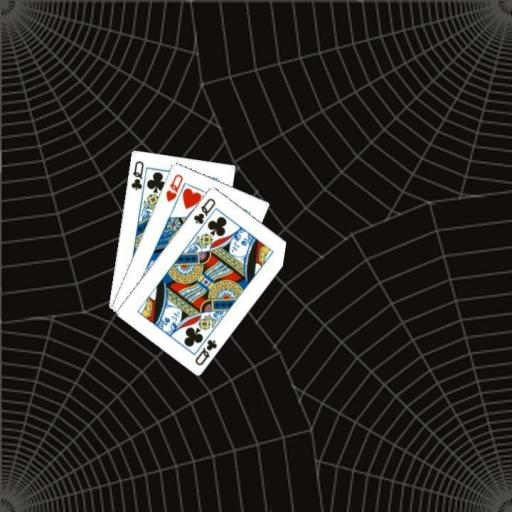card-corner: (190, 194, 217, 226), (192, 336, 218, 367), (162, 170, 184, 202), (127, 157, 145, 191)
